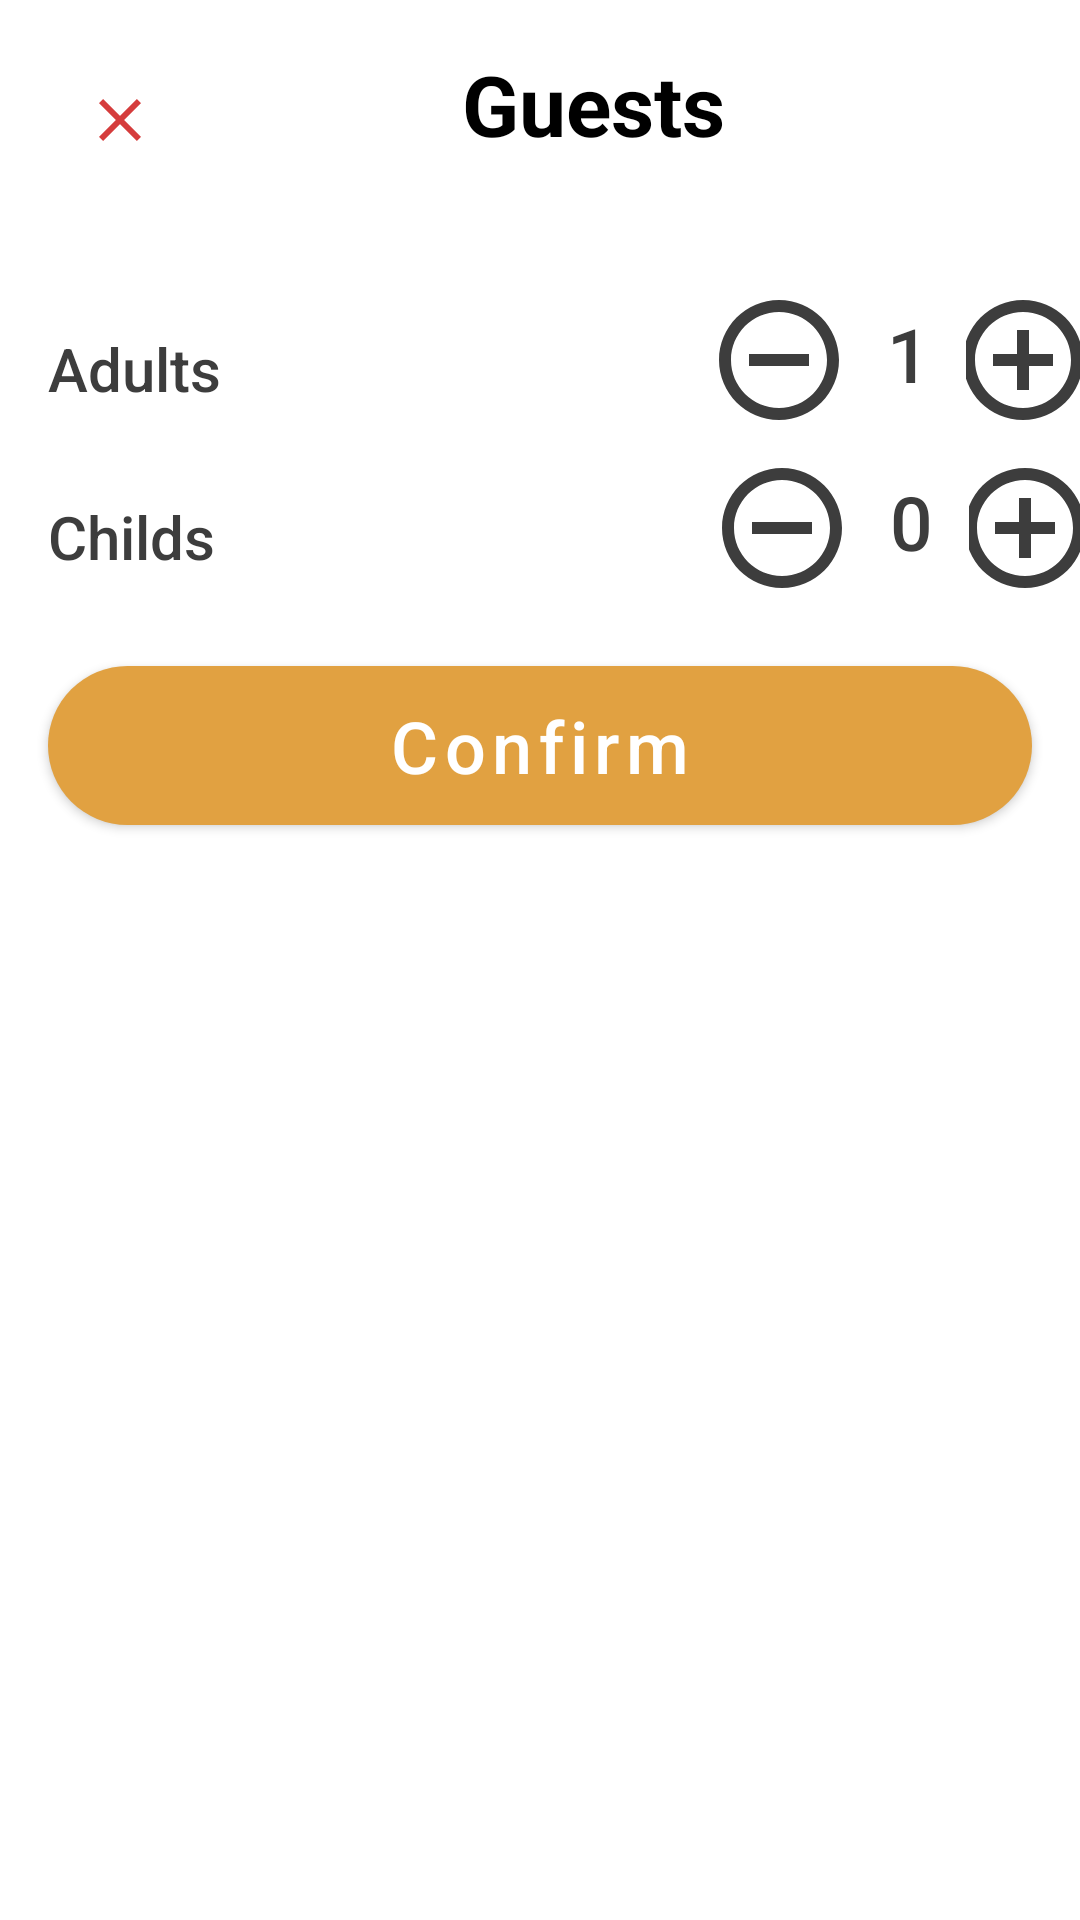

Point at icon controls on the screen. Image size 1080w x 1920h, points as (x,y).
addcircle: (1023,360), (1024,528)
close: (120,120)
mincircle: (779,360), (782,528)
